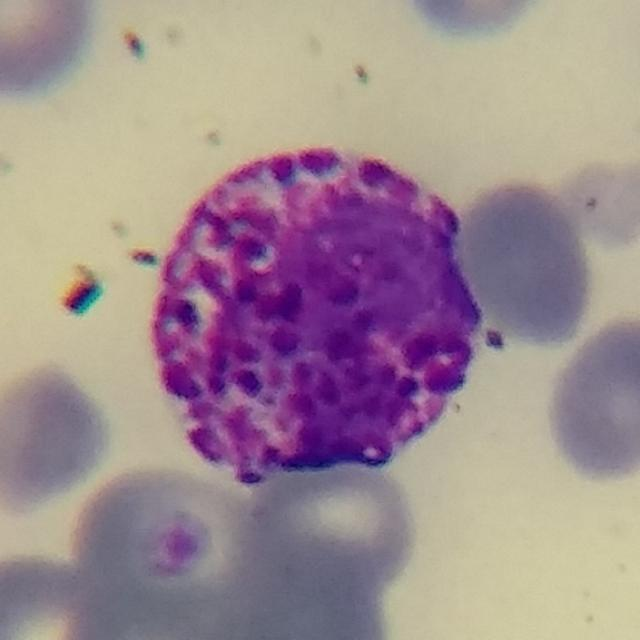Basophil: (125, 117, 508, 500)
Platelets: (55, 262, 108, 320), (481, 324, 511, 356)
RBC: (59, 458, 269, 636), (236, 445, 426, 598), (452, 172, 600, 350), (217, 537, 399, 639), (0, 358, 117, 516), (540, 312, 640, 486), (535, 150, 640, 257), (0, 0, 105, 106), (0, 547, 118, 640), (395, 0, 555, 43)
